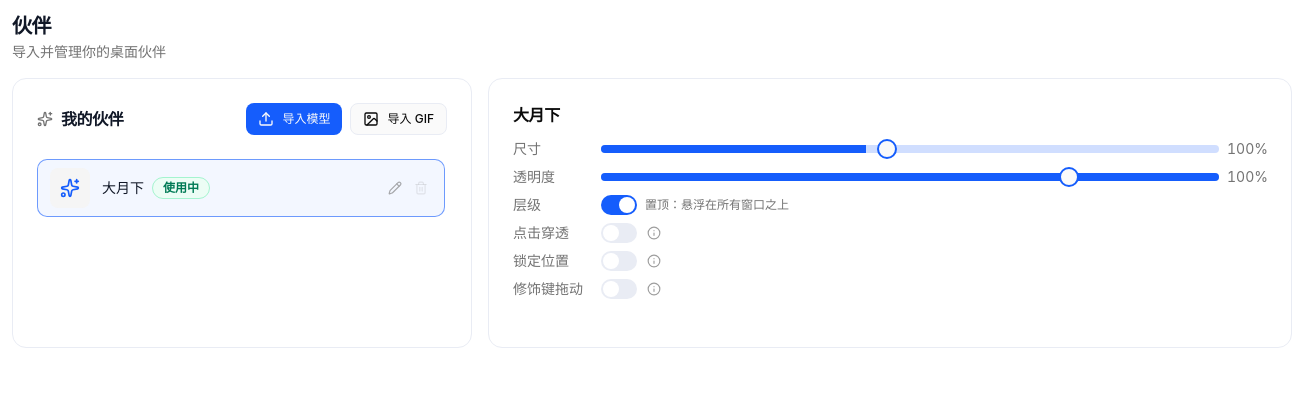
Test case: CompanionPage 伙伴模型管理器 › 第二次导入（已有 active）：selected 变新模型，active 不变
Click the button "导入模型". click: click(294, 119)
box: [246,103,342,135]
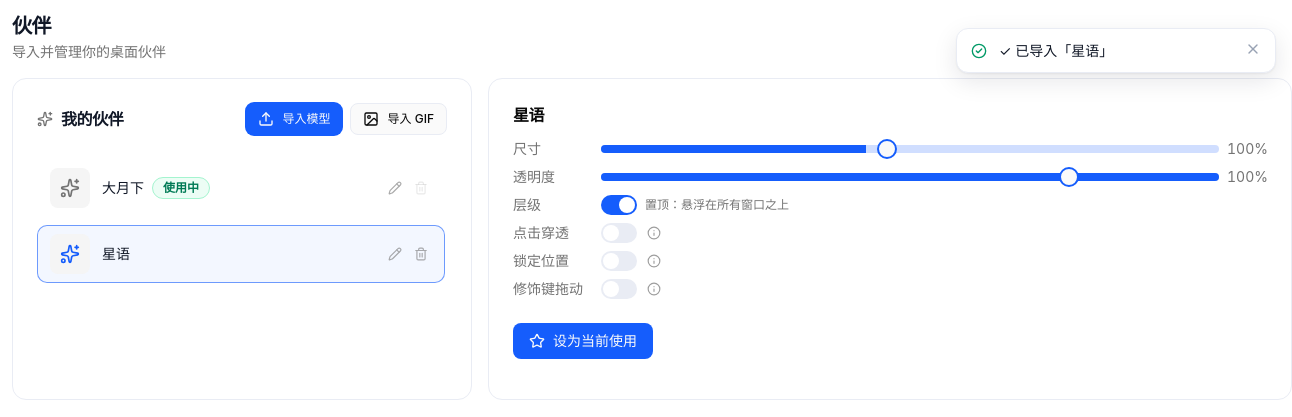
Expected: the text "使用中" is shown once, [152,177,210,199]
Expected: the button "设为当前使用" is enabled, [513,323,653,359]
